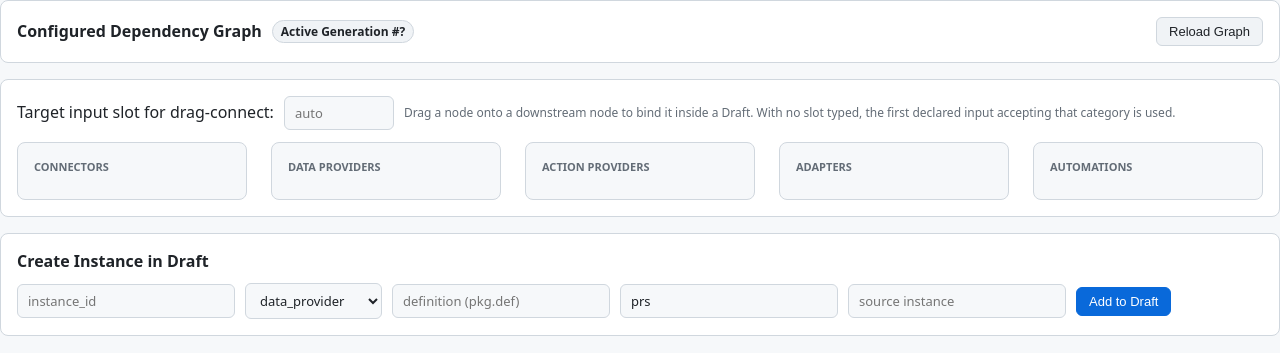
Scenario: dash Web UI › keeps GraphEditorView drag slot separate from create-instance slot and supports Discard Draft
The image size is (1280, 353).
Check: the text "Configured Dependency Graph" is shown, box 17,20 -> 262,43
Check: the field with placeholder "input slot (e.g. prs)" holds "prs", box 620,284 -> 838,318
Type "issues" into the field labelled "Target input slot for drag-connect:".
click(339, 113); type("issues")  # box 284,96 -> 394,130
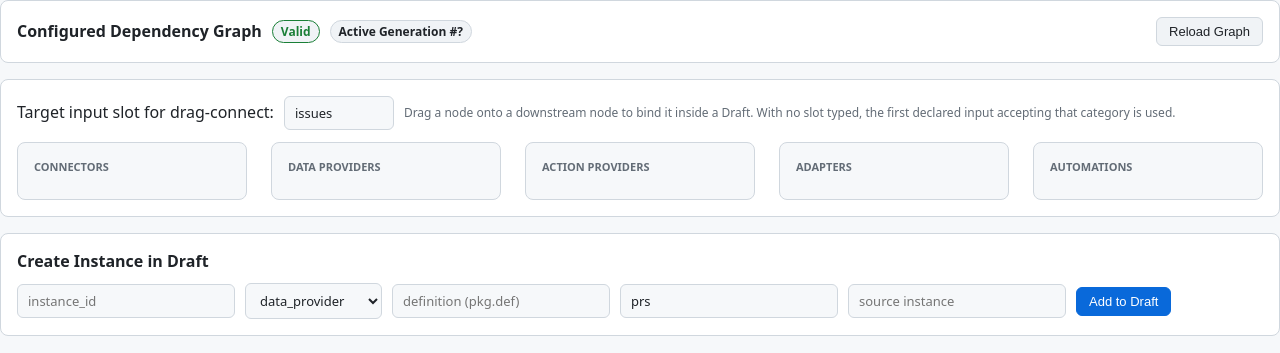
Replace the text in the field with placeholder "input slot (e.g. prs)" with "linked" at (729, 301), box 620,284 -> 838,318
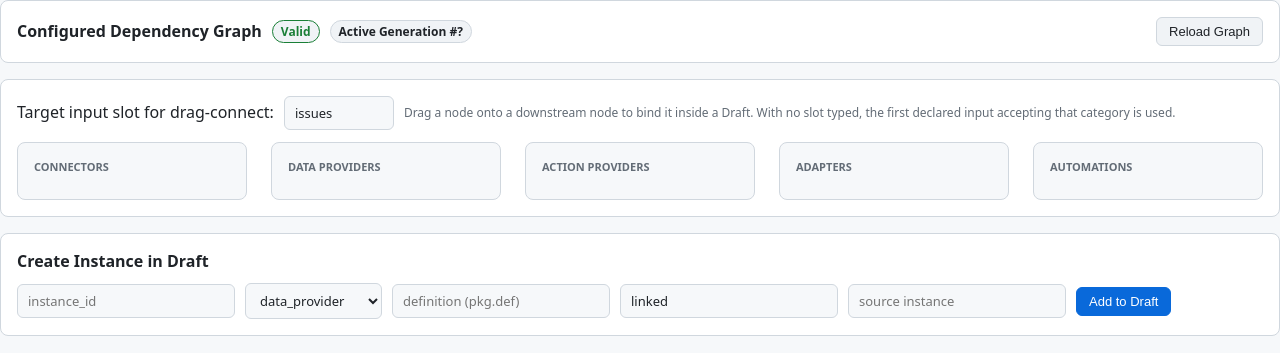
Type "bad_inst" into the field with placeholder "instance_id".
click(126, 301); type("bad_inst")  # box 17,284 -> 235,318
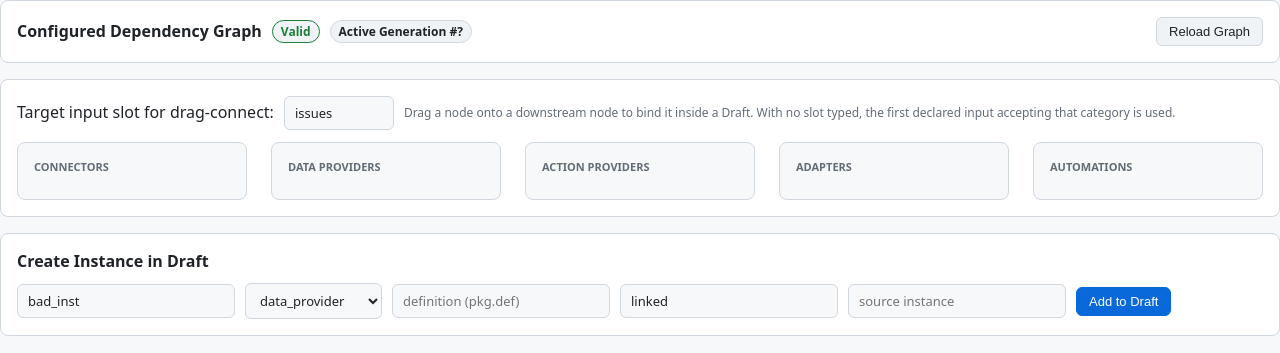
Type "engineering.linked_prs" into the field with placeholder "definition (pkg.def)".
click(501, 301); type("engineering.linked_prs")  # box 392,284 -> 610,318
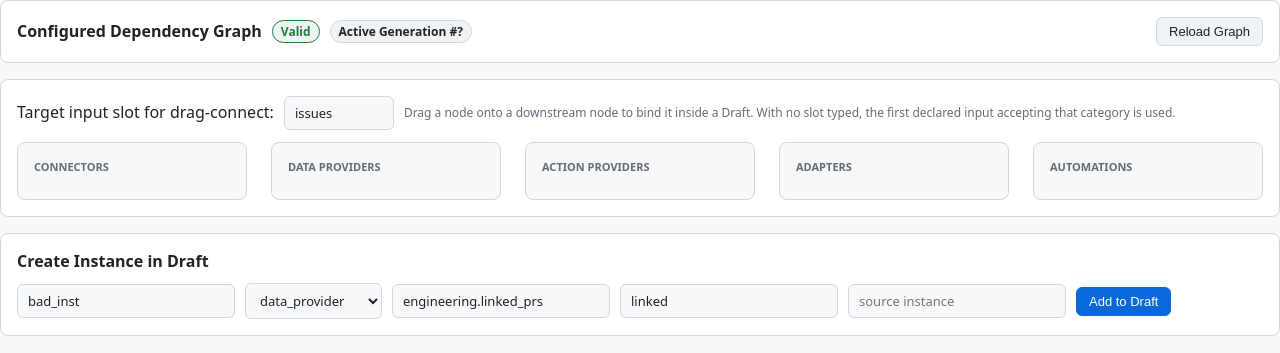
Click the button "Add to Draft".
click(1124, 301)  # box 1076,287 -> 1171,316
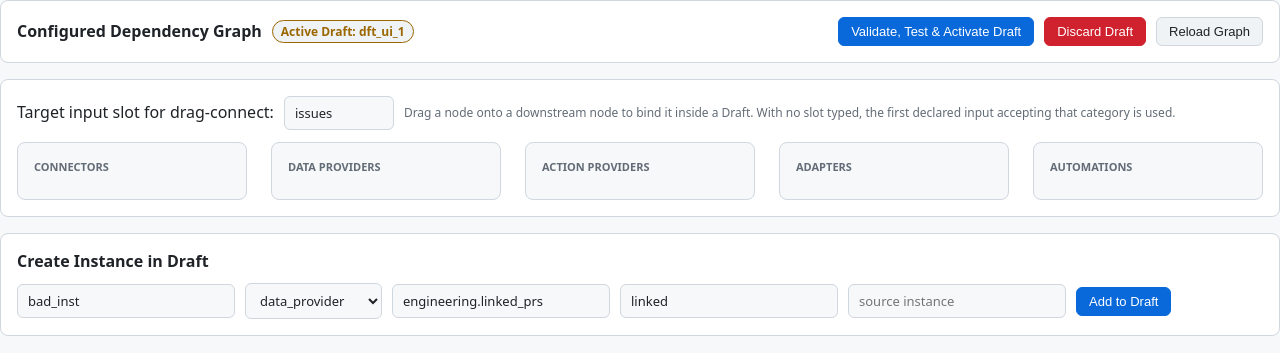
Check: the text "Active Draft: dft_ui_1" is shown, box 272,20 -> 414,43
Click the button "Discard Draft".
click(1095, 32)  # box 1044,17 -> 1146,46
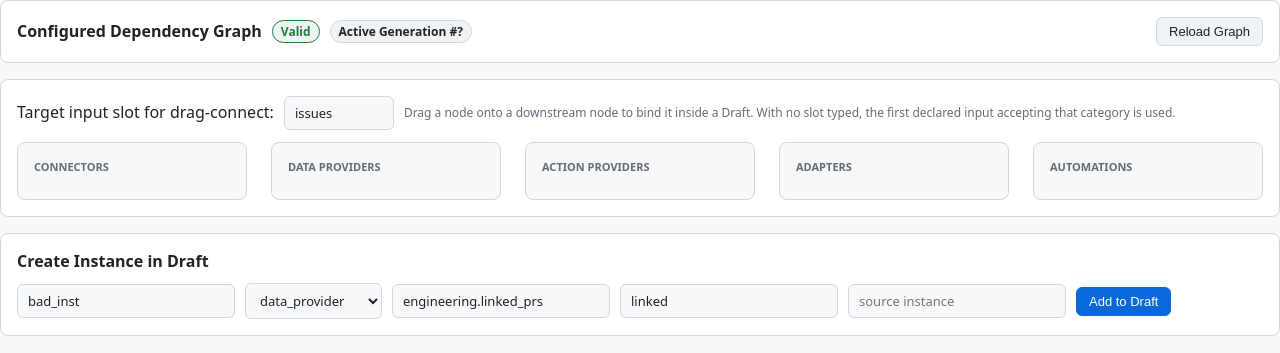
Check: the text "Active Draft: dft_ui_1" is gone
